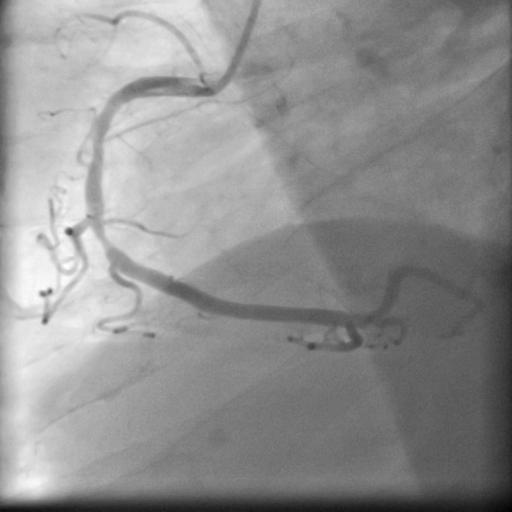Stenosis: (92, 217, 118, 254)
